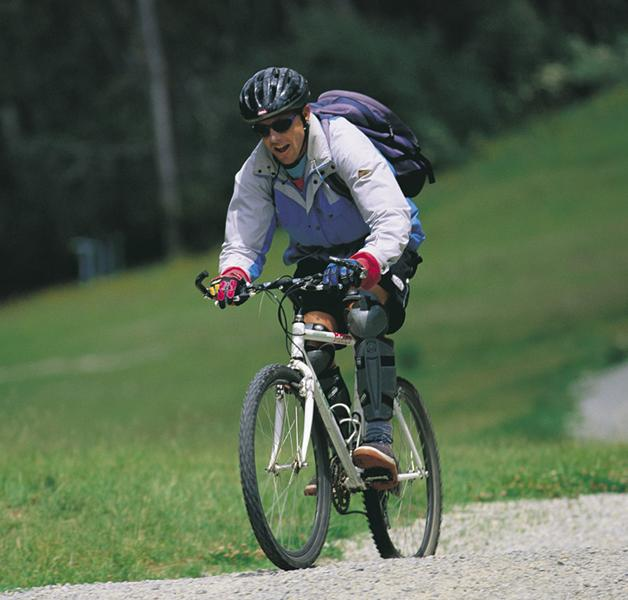person: (205, 66, 419, 498)
